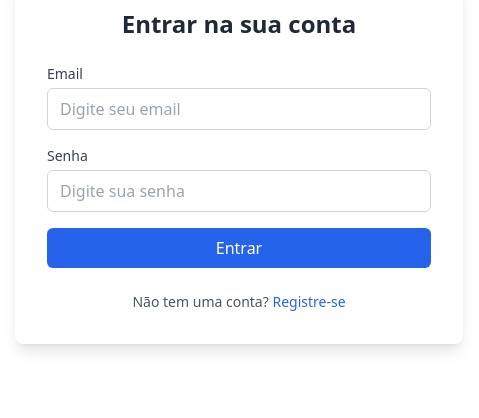
LoginForm › should validate required fields on submit
Step 1. Click the button "Entrar" → (239, 248), box x1=47 y1=228 x2=431 y2=268
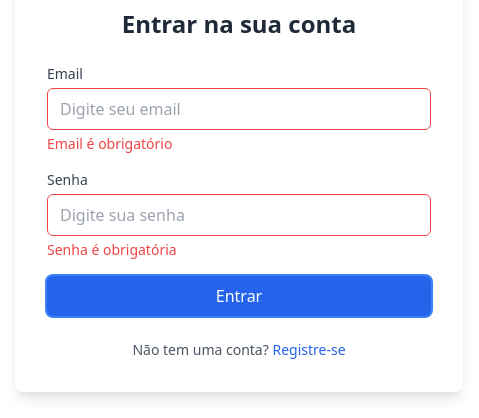
Now the text "Email é obrigatório" is shown, box x1=47 y1=134 x2=172 y2=153
Now the text "Senha é obrigatória" is shown, box x1=47 y1=240 x2=177 y2=259
